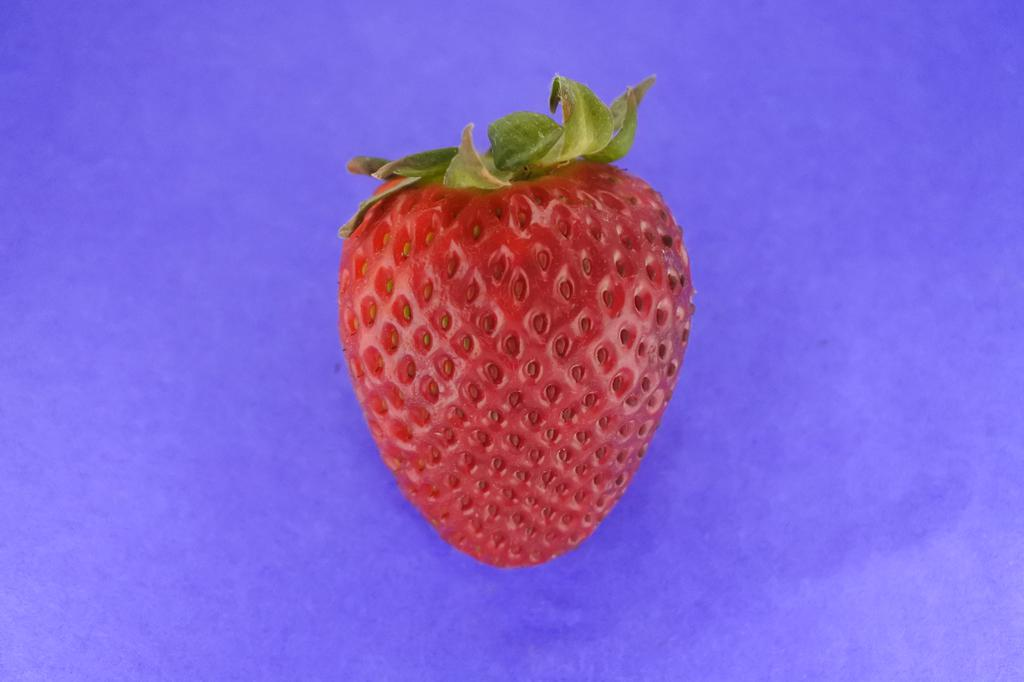red strawberry: (331, 74, 696, 574)
